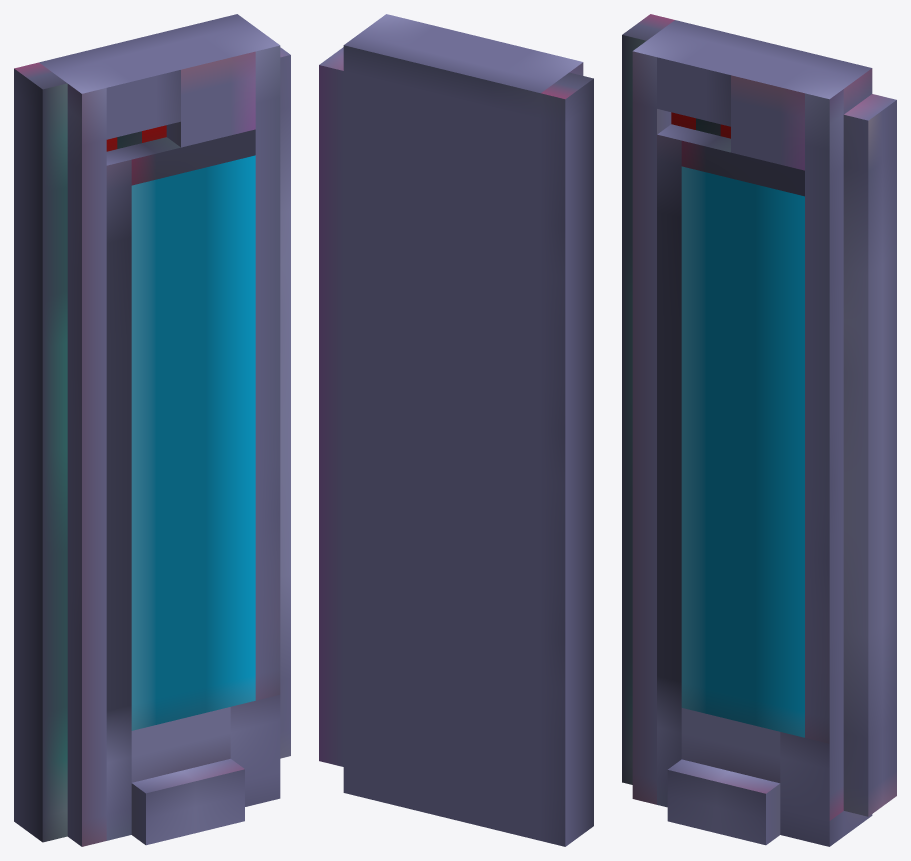
The model's file is Screen_B_00.fbx.
3 renders of one model, left to right at view 1: azimuth 30°, elevation 25°; view 2: azimuth 150°, elevation 25°; view 3: azimuth 330°, elevation 25°, orthographic.
Visible parts, largest first — view 1: Screen_B_00; view 2: Screen_B_00; view 3: Screen_B_00.
Part boxes in pixels (box(x1,y1,x2,y2)): Screen_B_00: box(14, 14, 290, 846); Screen_B_00: box(319, 14, 593, 846); Screen_B_00: box(622, 14, 896, 846).
Size of the model in its own units: 50 by 145 by 20.
